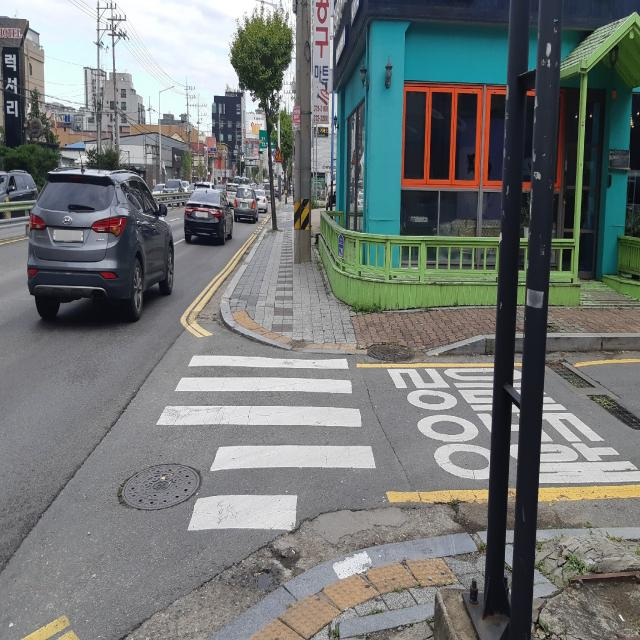횡단보도: (154, 353, 378, 533)
